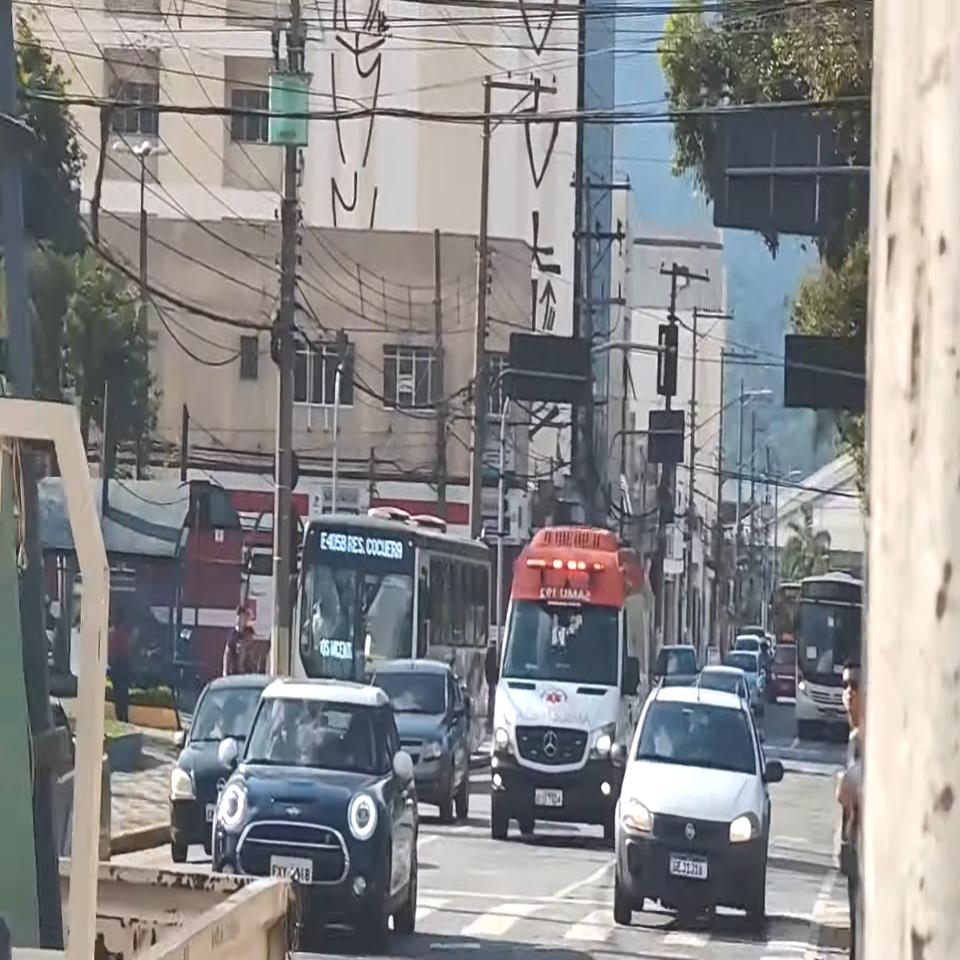ambulancia: (485, 525, 646, 841)
